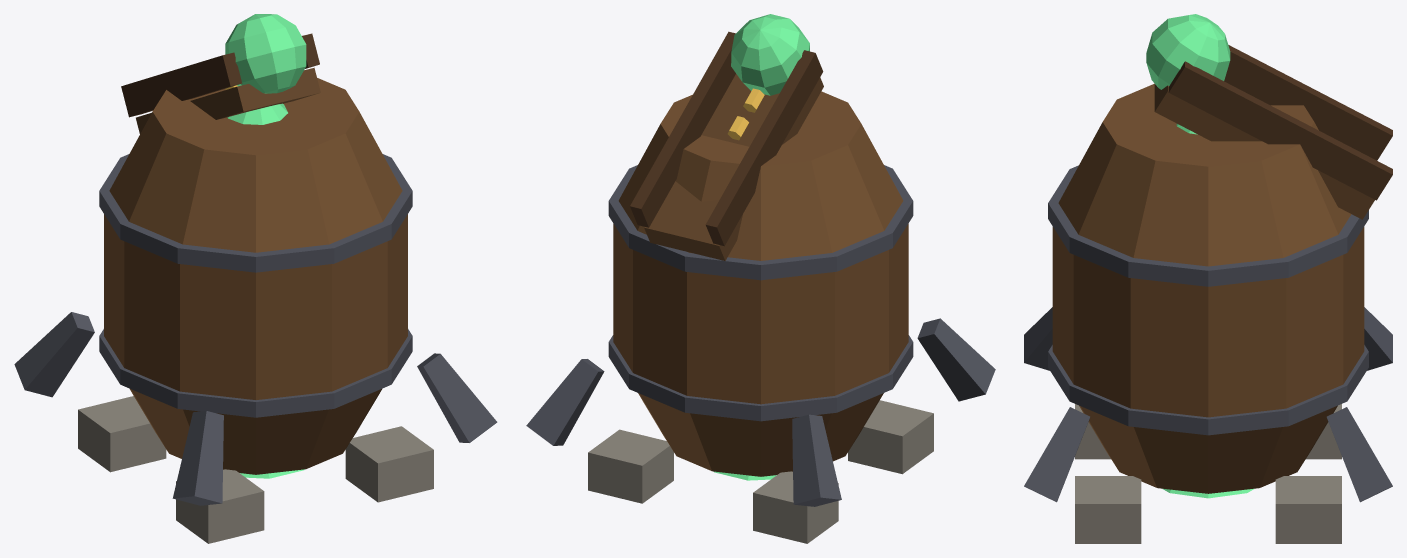
The model's file is tower_bounce_l3.glb.
The picture shows the model from 3 angles, left to right: view 1: azimuth 30°, elevation 25°; view 2: azimuth 150°, elevation 25°; view 3: azimuth 270°, elevation 25°; orthographic projection. The views are drawn at different scales.
Parts seen in each view (by area): view 1: Body, Turret; view 2: Body, Turret; view 3: Body, Turret.
Boxes of the visible parts, x1,y1,x2,y2 form: Body: (14, 78, 497, 543); Turret: (121, 14, 320, 133); Body: (526, 91, 995, 543); Turret: (630, 14, 823, 260); Body: (1024, 83, 1392, 543); Turret: (1146, 14, 1392, 219).
Size of the model in its own units: 0.59 by 0.8222 by 0.5853.
